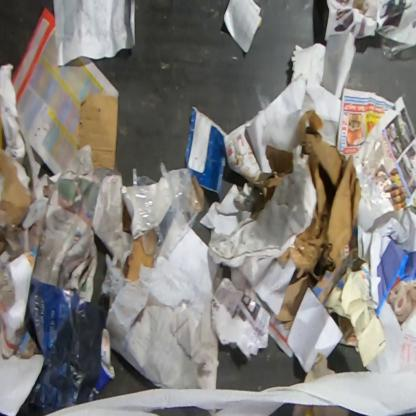cardboard: (247, 110, 367, 330), (77, 90, 119, 172), (0, 148, 32, 226), (123, 236, 152, 283)
rigid_plastic: (125, 160, 204, 268)
